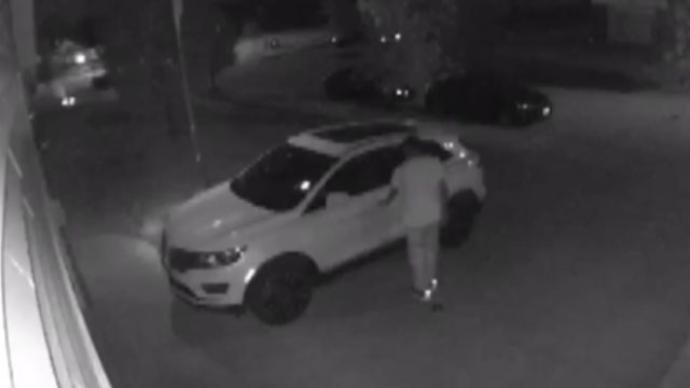person: (378, 124, 454, 324)
